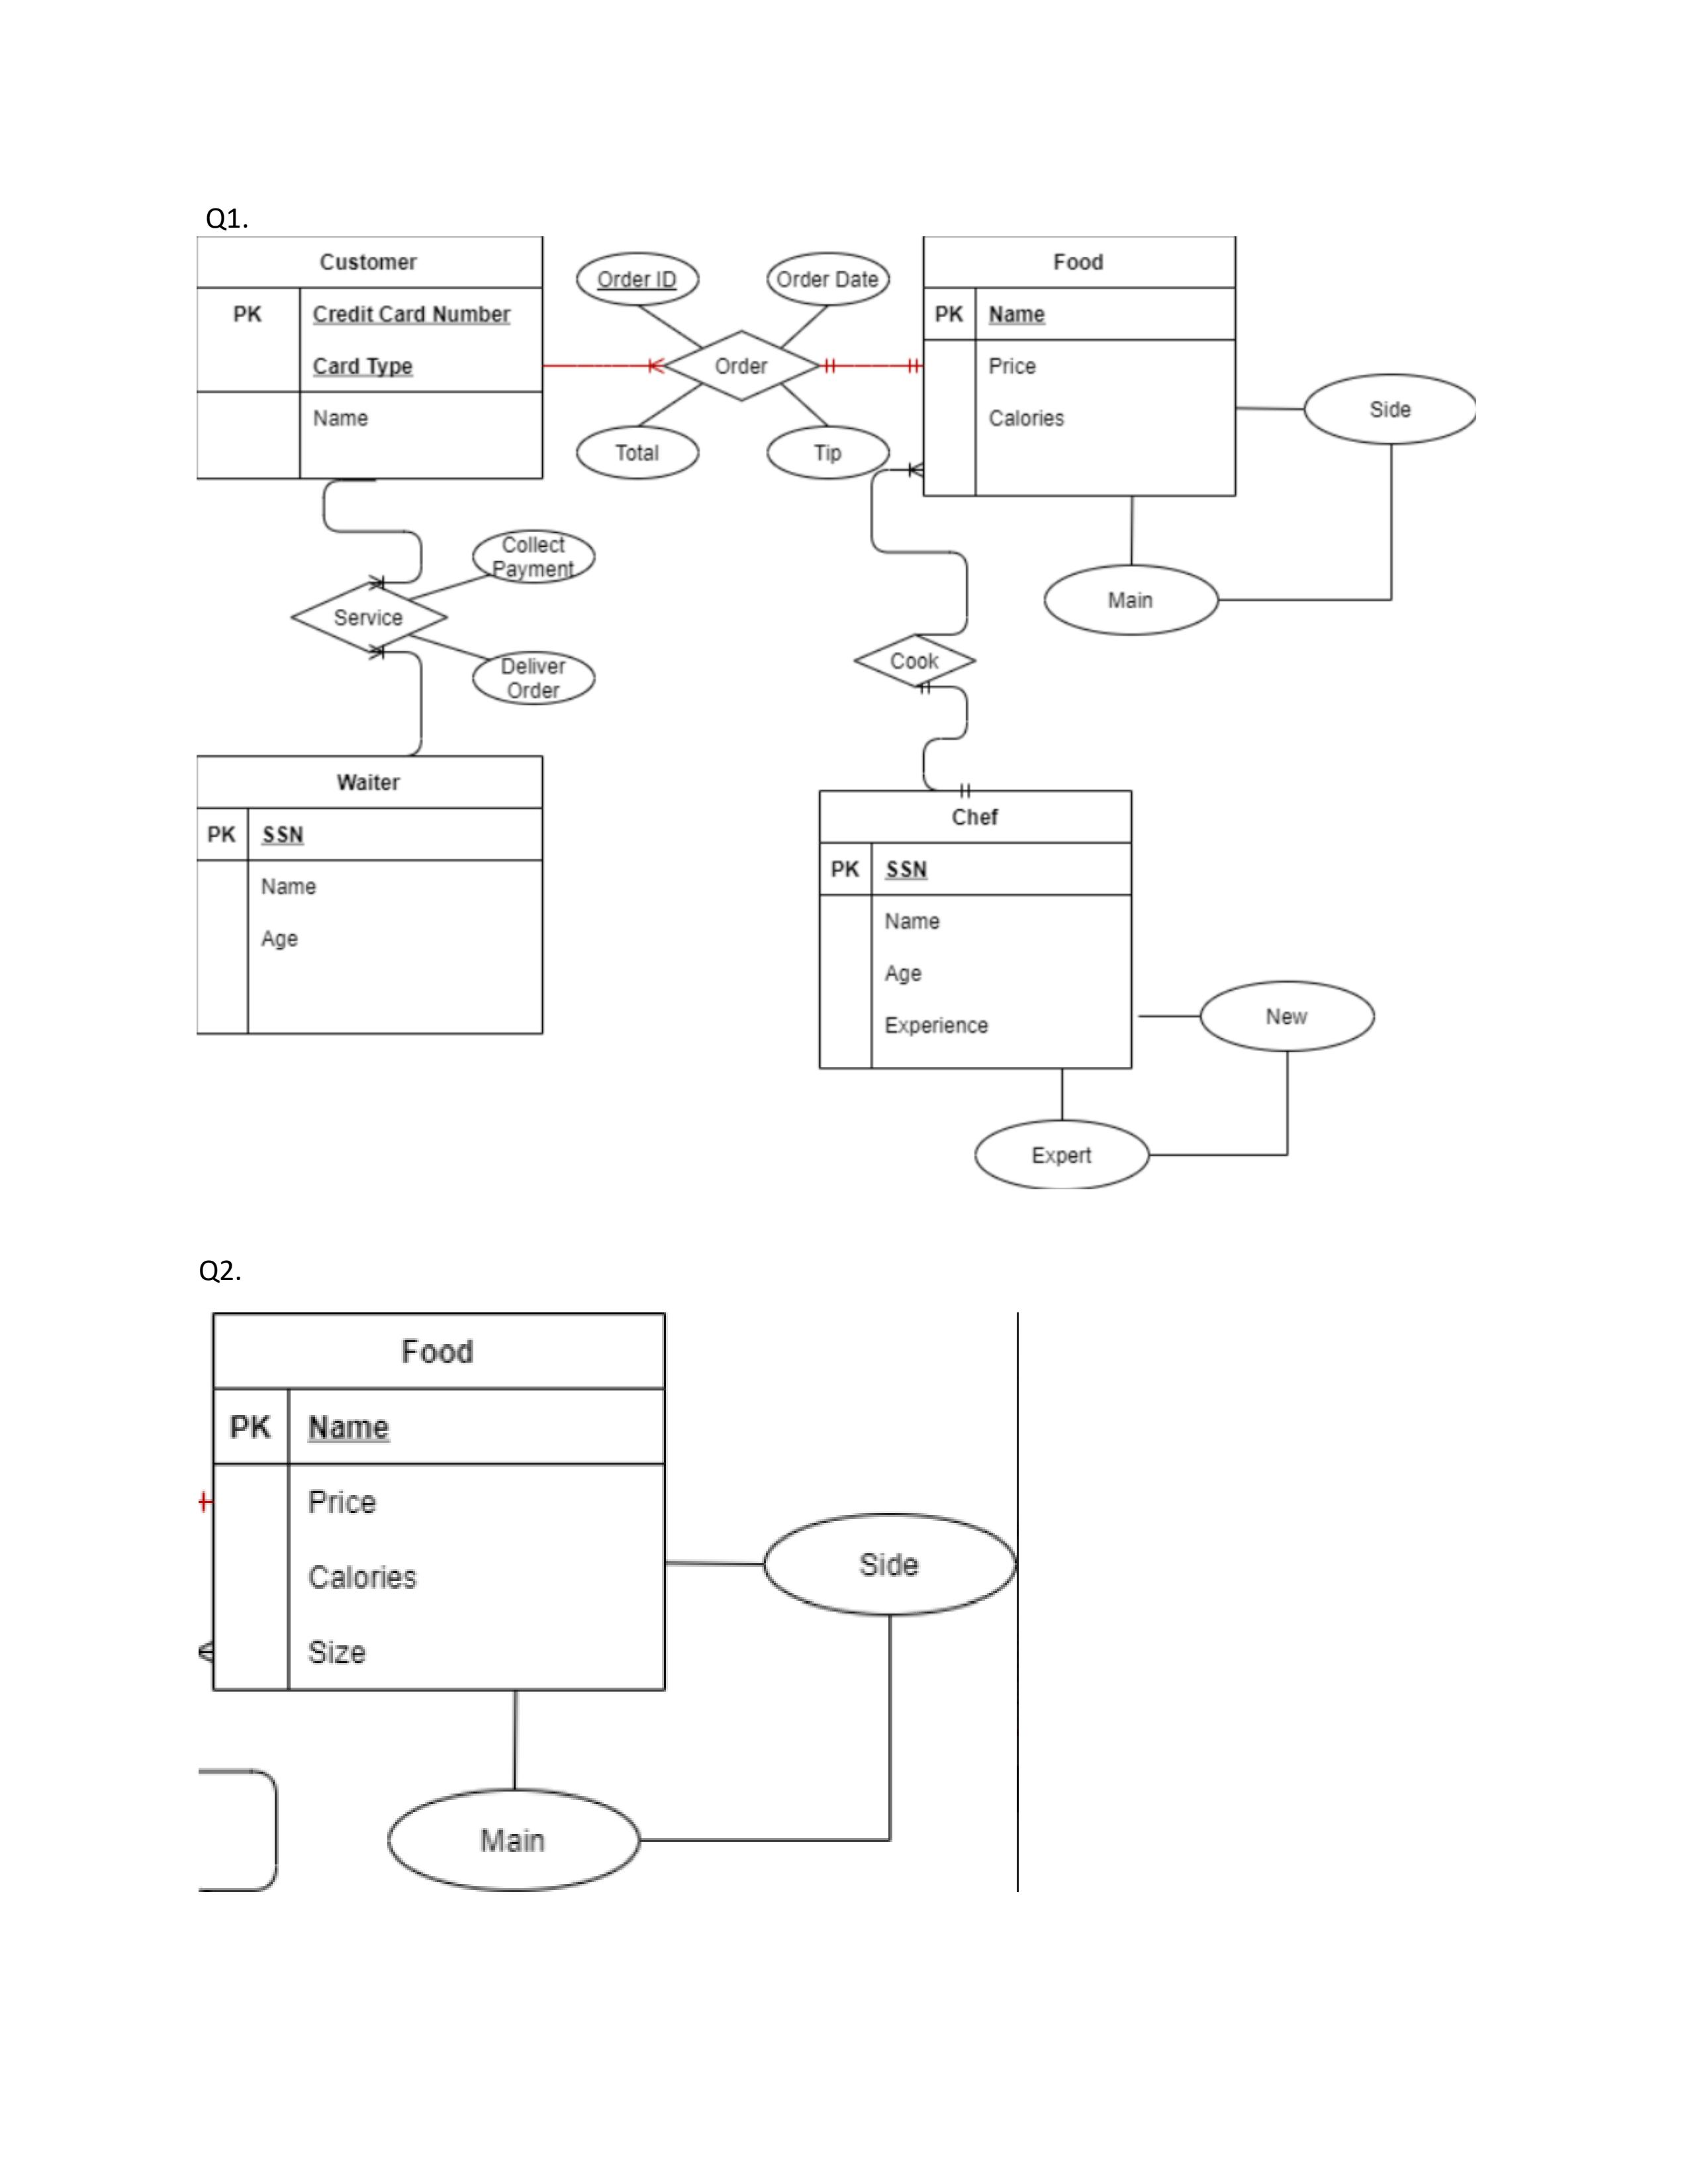Attribute: (762, 1512, 1018, 1618), (388, 1787, 642, 1893), (1043, 564, 1222, 638), (1199, 980, 1376, 1053), (1303, 374, 1479, 447), (975, 1119, 1149, 1189), (574, 250, 702, 308), (766, 250, 890, 308), (472, 528, 598, 585), (472, 651, 598, 707), (574, 425, 700, 480), (766, 425, 892, 480)
Entity: (211, 1310, 668, 1693), (195, 753, 546, 1037), (817, 789, 1135, 1072), (195, 234, 546, 482), (922, 234, 1238, 498)
Relationship: (291, 581, 449, 652), (851, 633, 977, 688)
